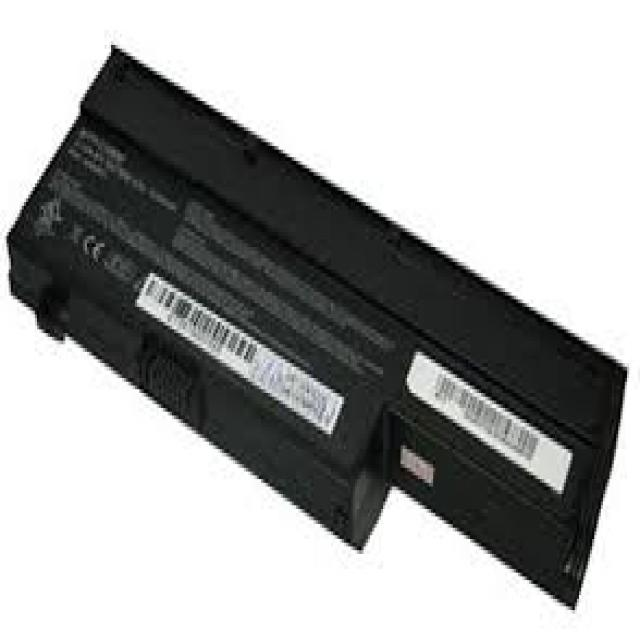non-organic waste: (5, 42, 627, 609)
